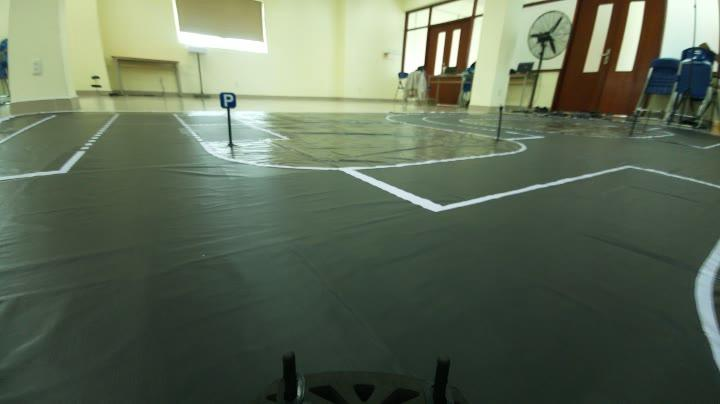parking: (212, 88, 241, 110)
